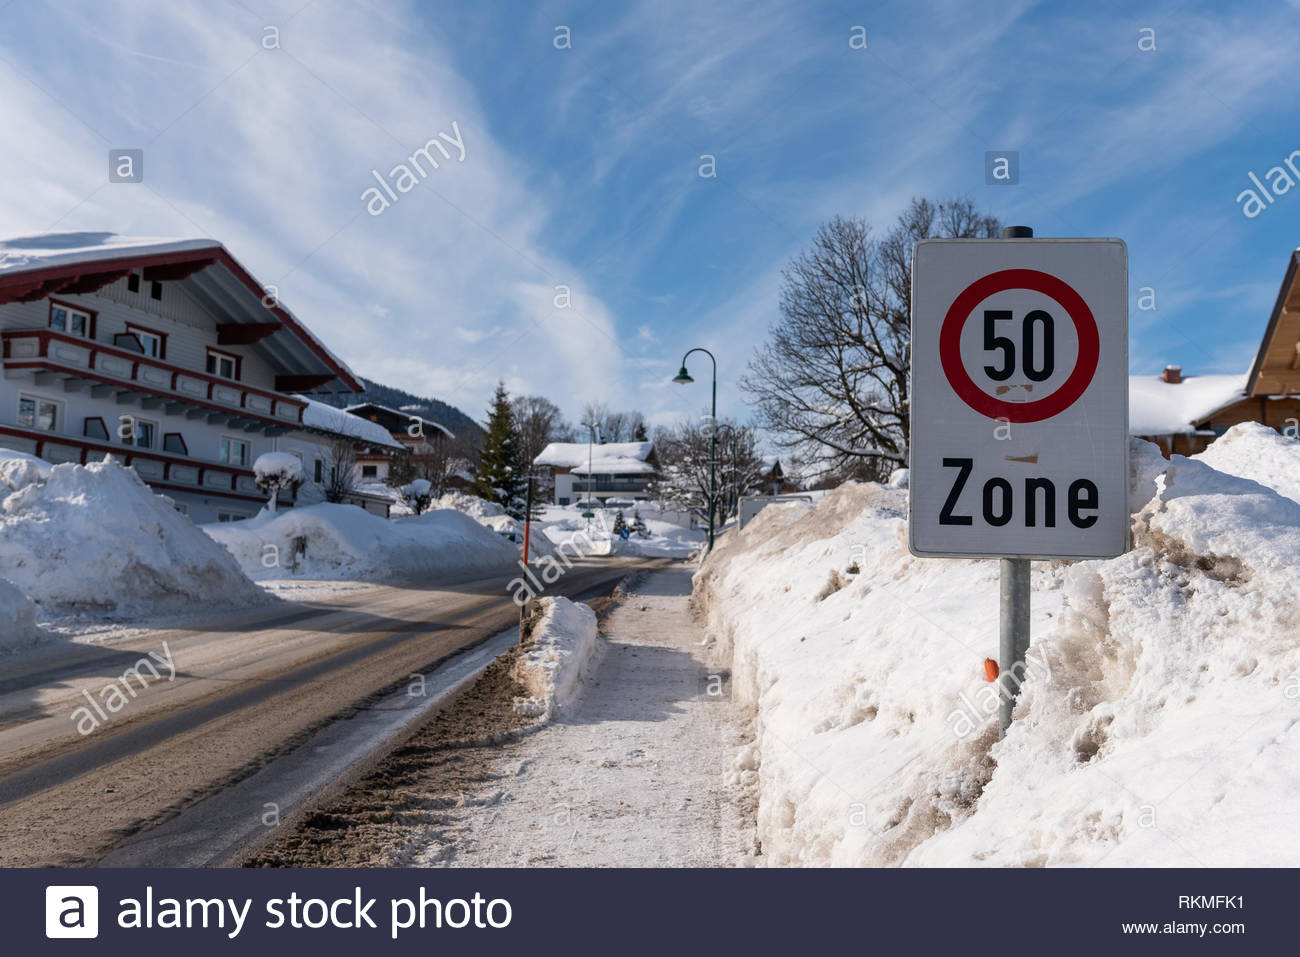speed_limit_50: (942, 268, 1102, 424)
